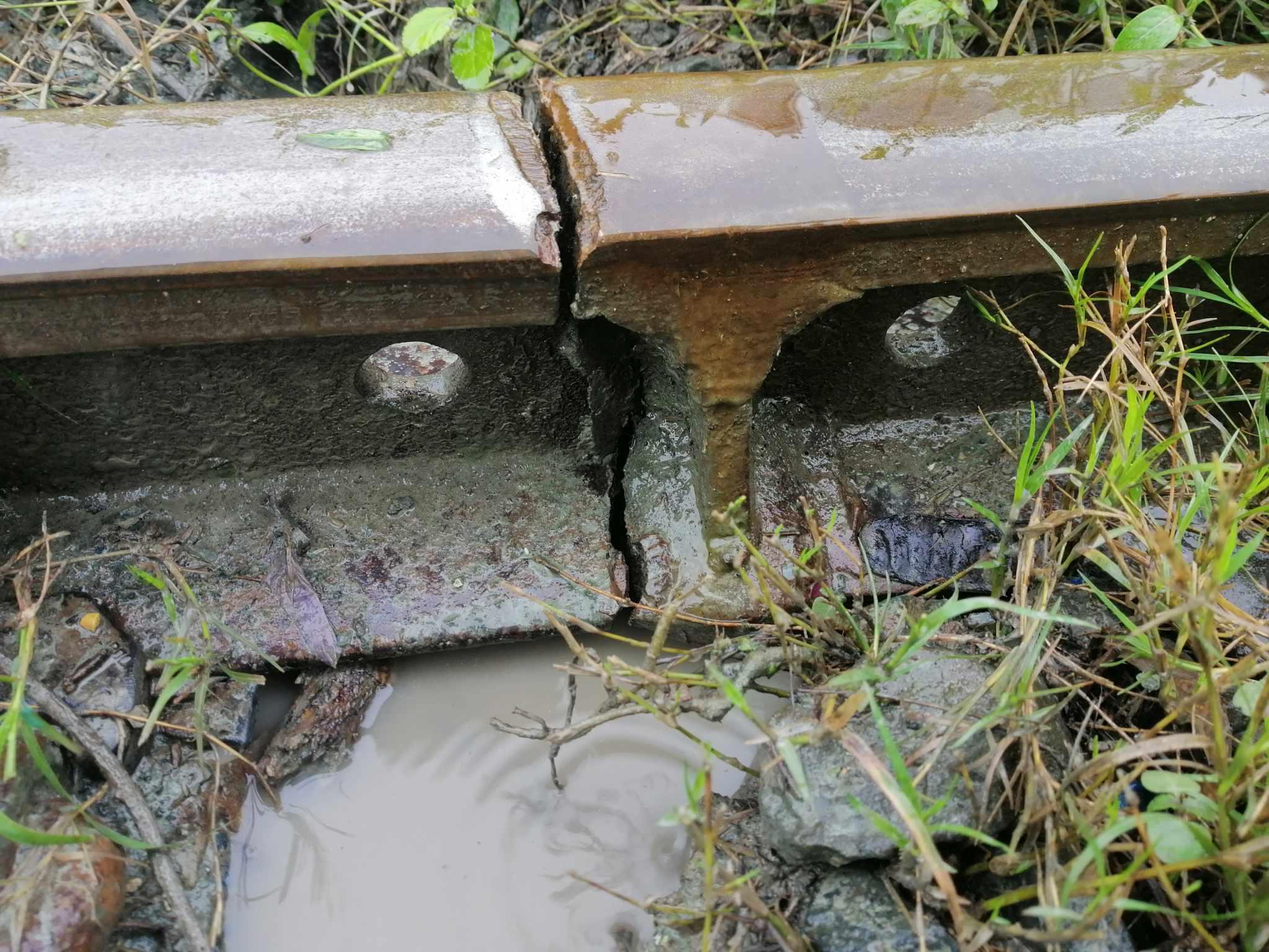railway-gap: (376, 39, 828, 651)
